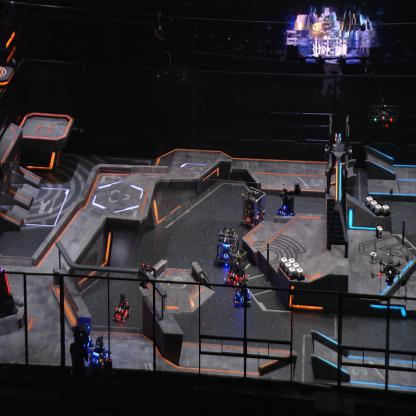car: (224, 246, 249, 287), (241, 185, 266, 226), (216, 226, 239, 266), (73, 315, 94, 353), (274, 186, 296, 221), (89, 336, 112, 366), (112, 293, 132, 324), (233, 278, 252, 306)
